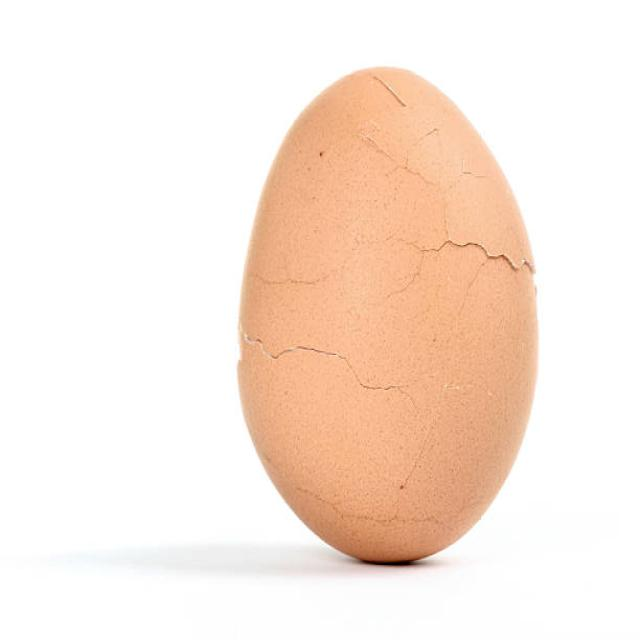Crack: (242, 70, 542, 415)
Egg: (220, 42, 547, 582)
